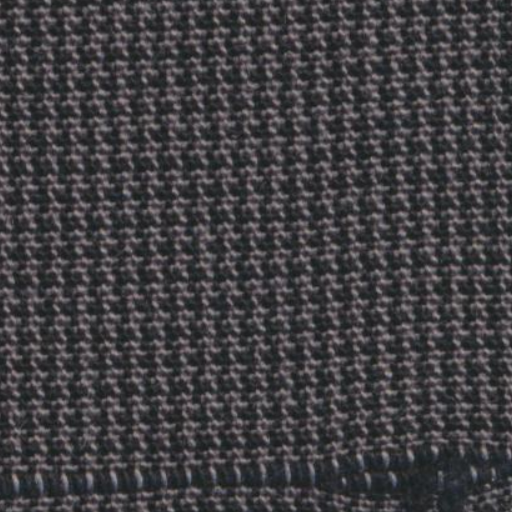DaiSha: (20, 430, 498, 502)
